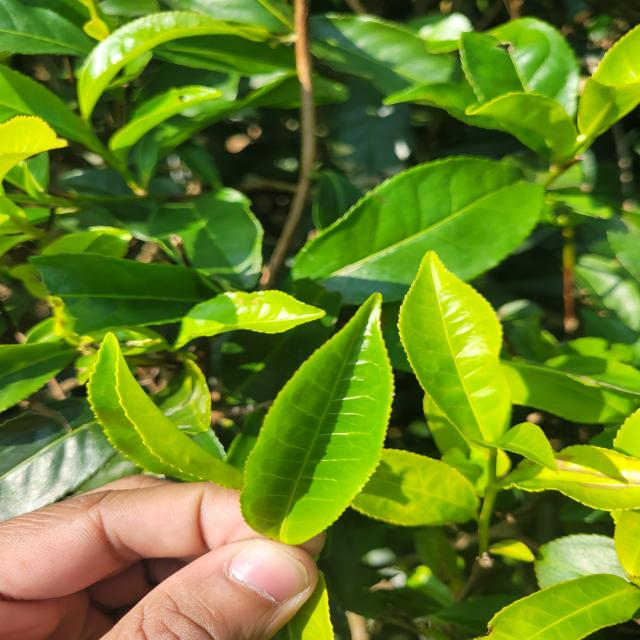Catagory A(1-2 days): (230, 284, 406, 575)
